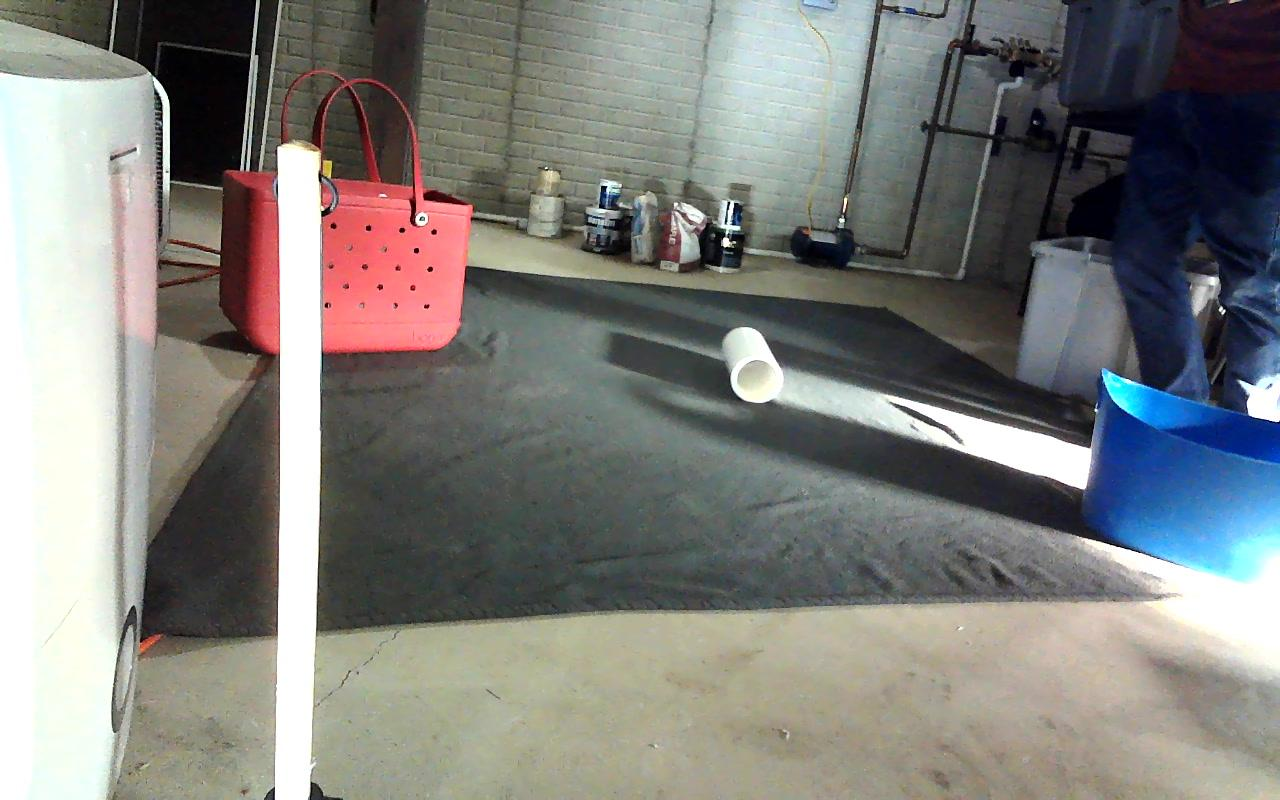coral: (721, 327, 782, 401)
